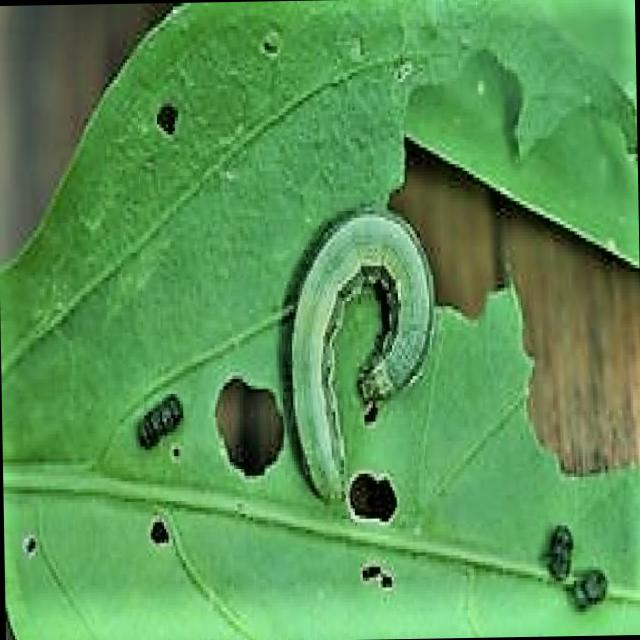Armyworm: (266, 202, 473, 513), (540, 514, 612, 627), (134, 392, 209, 482)
Armyworm_damage: (204, 336, 289, 515), (145, 57, 195, 173), (350, 460, 397, 533), (19, 531, 49, 583), (144, 518, 175, 557)
